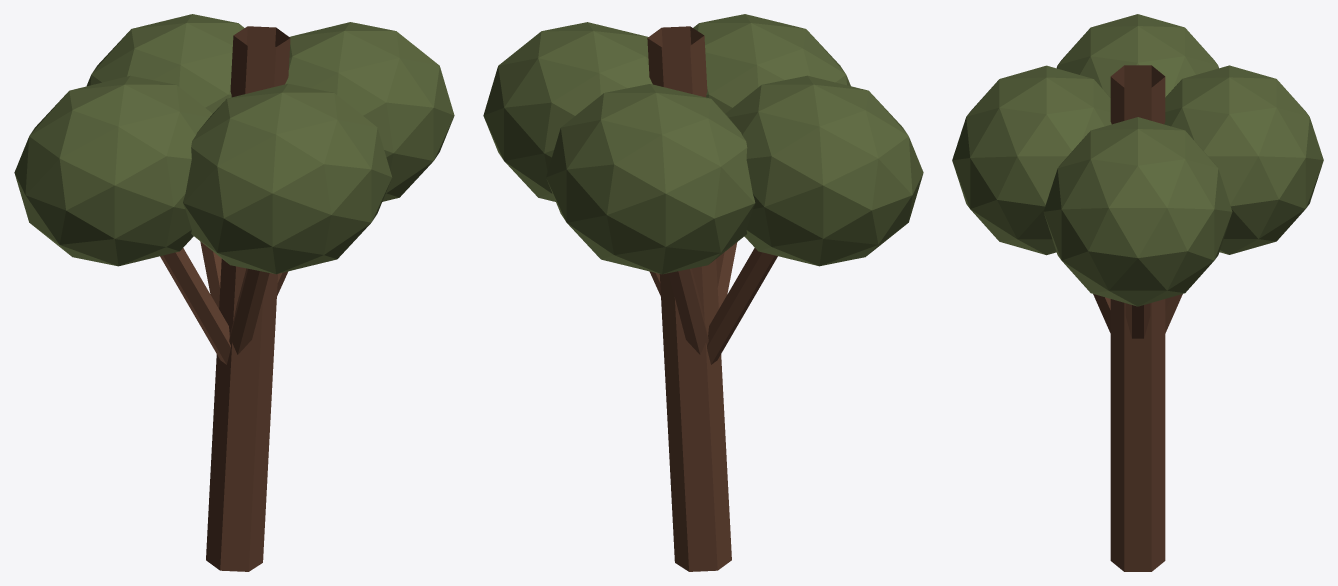
3 views of the same model, side by side, from view 1: azimuth 30°, elevation 25°; view 2: azimuth 150°, elevation 25°; view 3: azimuth 270°, elevation 25° (orthographic). The views are drawn at different scales.
Visible parts, largest first — view 1: T18_稀叶荒漠树; view 2: T18_稀叶荒漠树; view 3: T18_稀叶荒漠树.
Part boxes in pixels (box(x1,y1,x2,y2)): T18_稀叶荒漠树: box(14, 14, 454, 571); T18_稀叶荒漠树: box(483, 14, 923, 571); T18_稀叶荒漠树: box(952, 14, 1323, 571).
Size of the model in its own units: 1.52 by 1.81 by 1.22.
